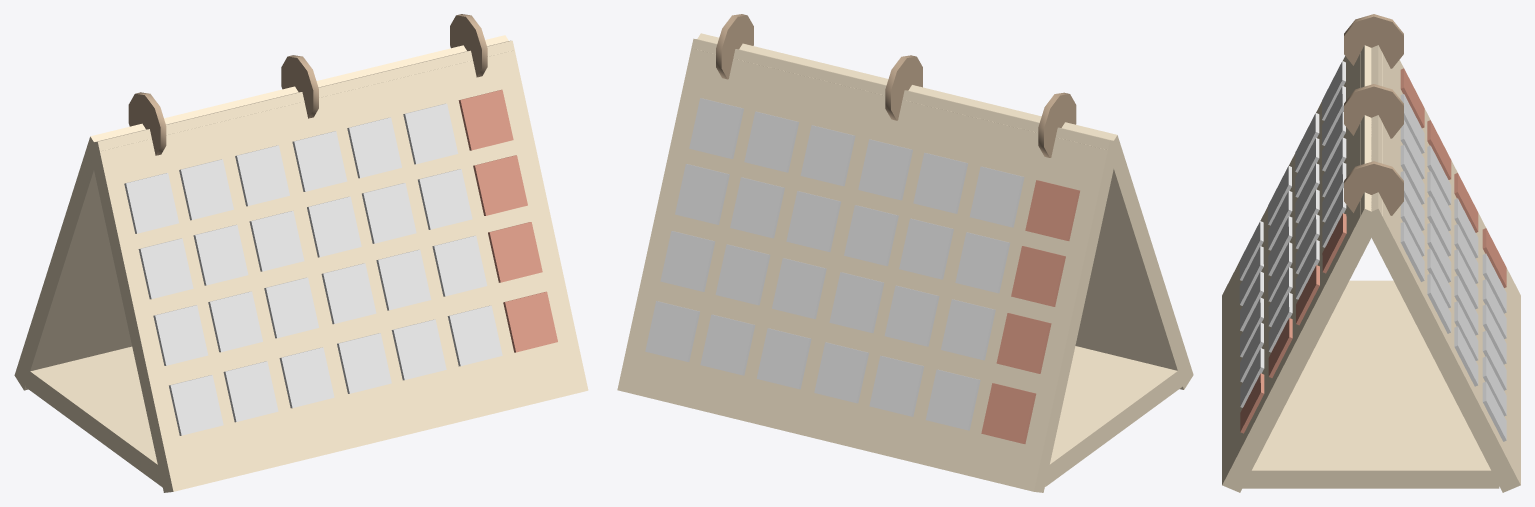
The model's file is calendar.fbx.
The picture shows the model from 3 angles, left to right: view 1: azimuth 30°, elevation 25°; view 2: azimuth 150°, elevation 25°; view 3: azimuth 270°, elevation 25°; orthographic projection. The views are drawn at different scales.
Visible parts, largest first — view 1: Cube_1; view 2: Cube_1; view 3: Cube_1.
Boxes of the visible parts, x1=… form: Cube_1: x1=14, y1=14, x2=588, y2=492; Cube_1: x1=617, y1=14, x2=1193, y2=492; Cube_1: x1=1222, y1=14, x2=1520, y2=492.
Size of the model in its own units: 19.94 by 15.29 by 13.23.
